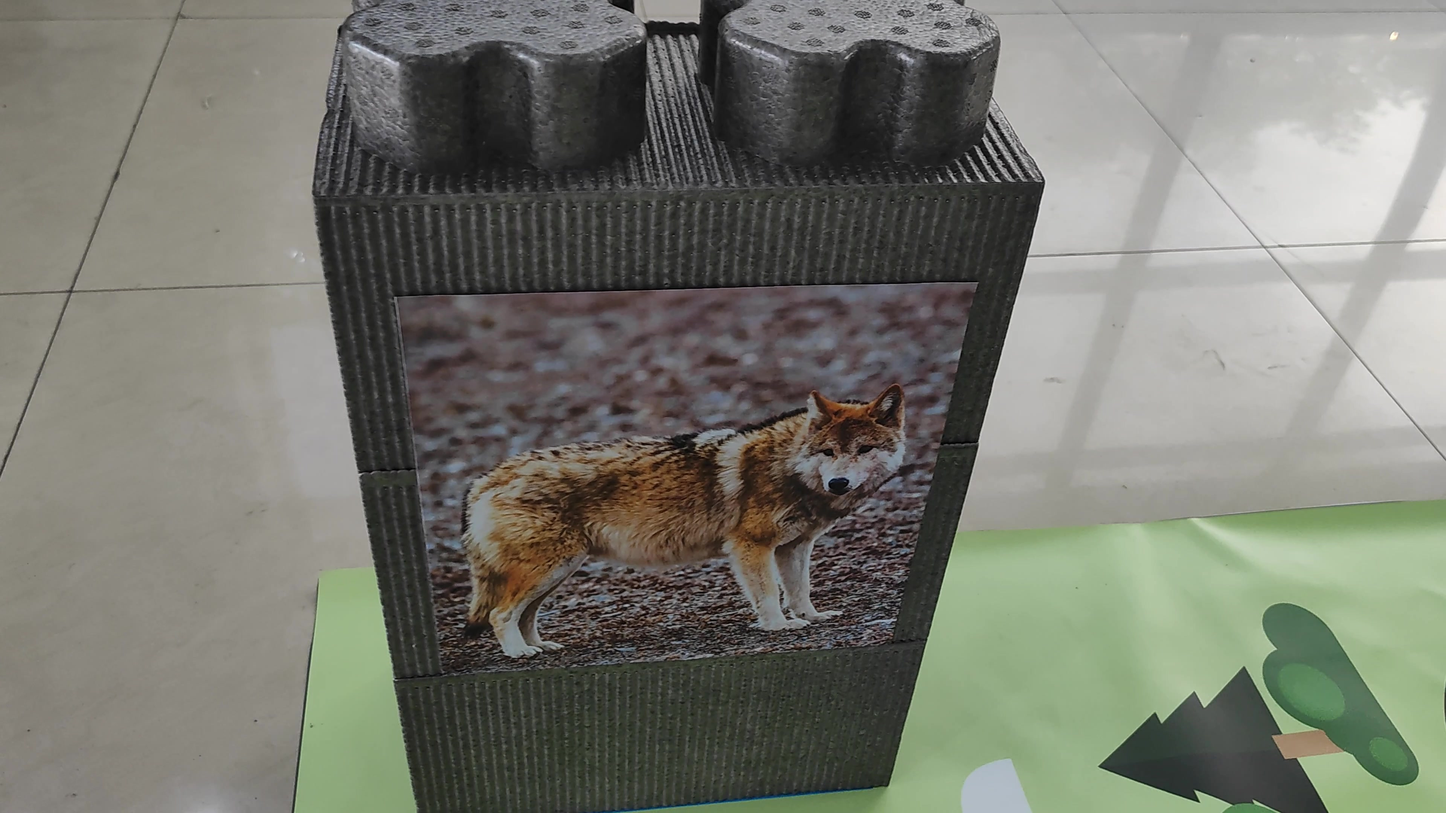wolf: (427, 328, 929, 645)
